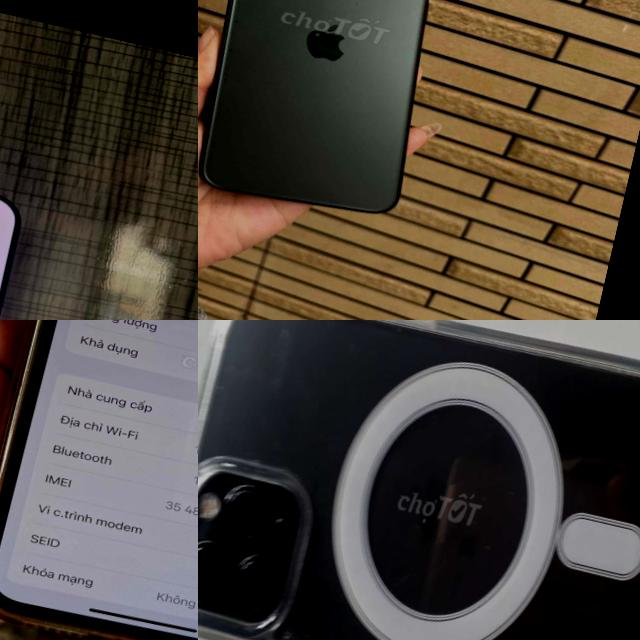gen_11: (198, 320, 640, 640), (198, 0, 470, 242)
gen_x_xs: (0, 320, 198, 640)
